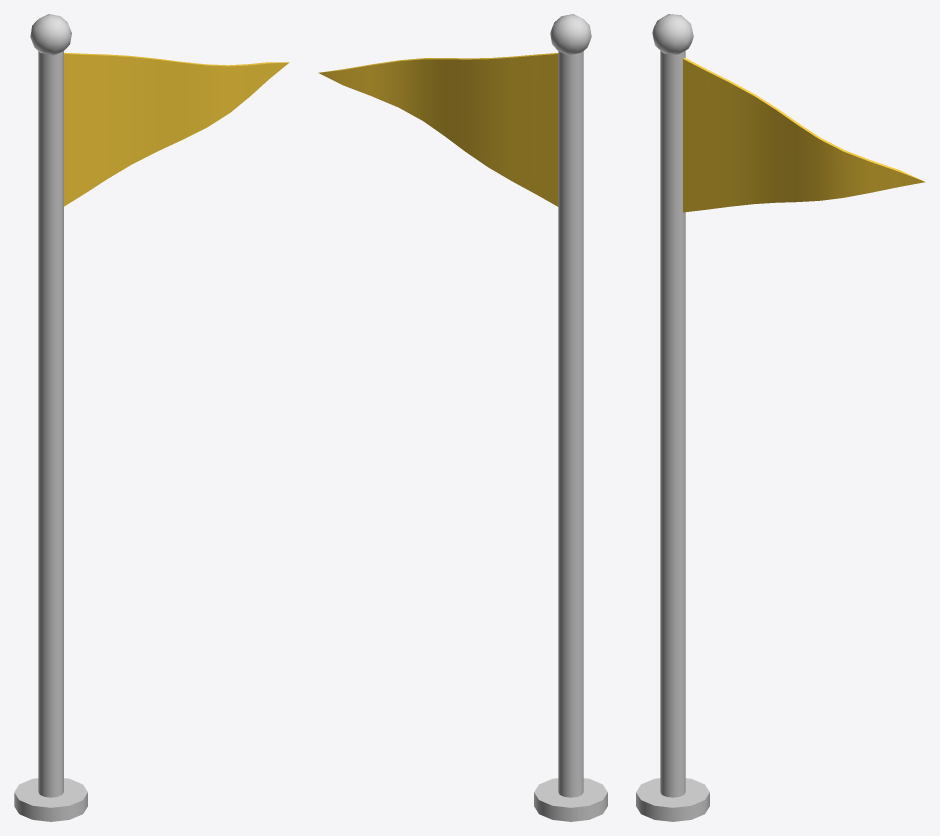
File: flag.glb
3 views of the same model, side by side, from view 1: azimuth 30°, elevation 25°; view 2: azimuth 150°, elevation 25°; view 3: azimuth 330°, elevation 25° (orthographic).
Visible parts, largest first — view 1: Pole, Flag; view 2: Pole, Flag; view 3: Pole, Flag.
Boxes of the visible parts, x1,y1,x2,y2 form: Pole: (14,14,87,821); Flag: (64,52,289,206); Pole: (534,14,607,821); Flag: (318,53,558,206); Pole: (636,14,709,821); Flag: (683,57,925,212).
Bounding box in the file's own units: 1.13 × 3.08 × 0.26.
